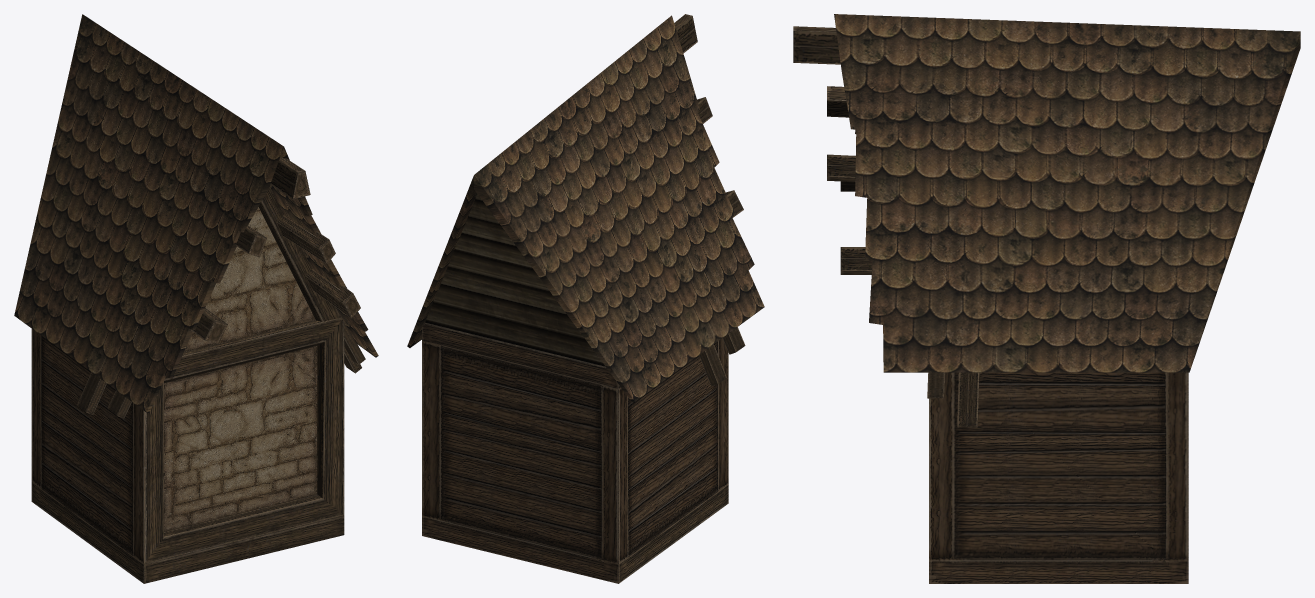
File: Window_b02.fbx
3 renders of one model, left to right at view 1: azimuth 30°, elevation 25°; view 2: azimuth 150°, elevation 25°; view 3: azimuth 270°, elevation 25°, orthographic. The views are drawn at different scales.
Visible parts, largest first — view 1: Window_b02; view 2: Window_b02; view 3: Window_b02.
Part boxes in pixels (x1,y1,x2,y2): Window_b02: (14, 14, 378, 583); Window_b02: (407, 14, 764, 583); Window_b02: (793, 14, 1300, 583).
Bounding box in the file's own units: 3.82 × 6.25 × 5.61.
